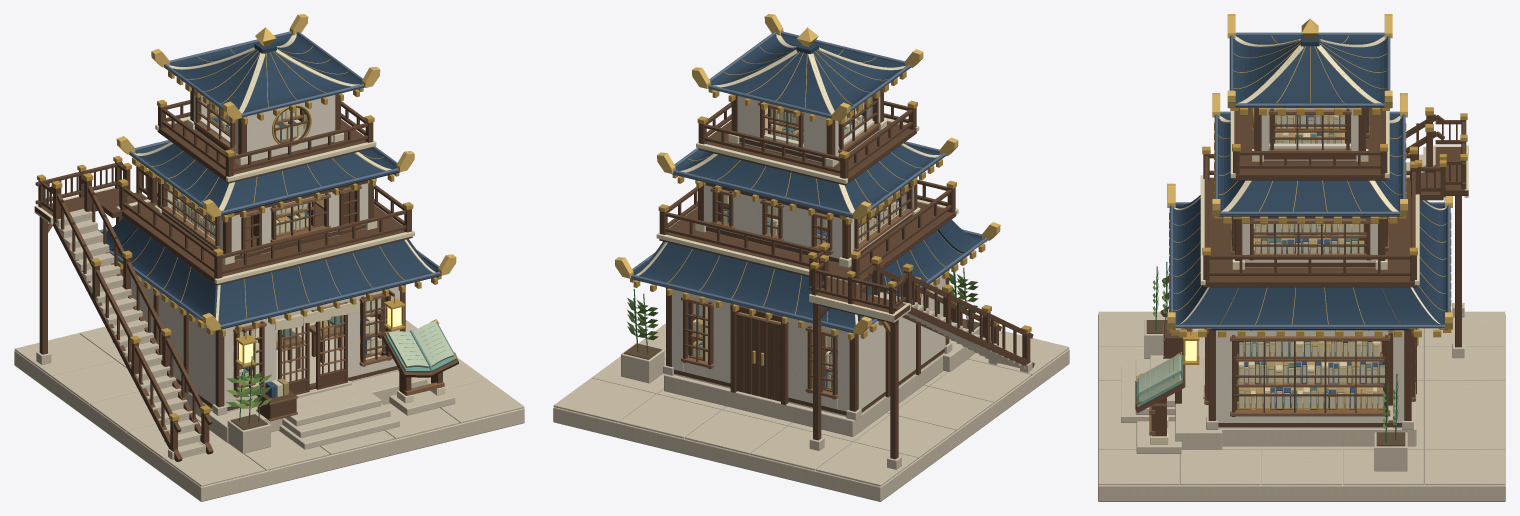
The model's file is library.glb.
3 renders of one model, left to right at view 1: azimuth 30°, elevation 25°; view 2: azimuth 150°, elevation 25°; view 3: azimuth 270°, elevation 25°, orthographic. The views are drawn at different scales.
Visible parts, largest first — view 1: RFbatch_0.034, RFbatch_31.034, RFbatch_52.034, RFbatch_3.034, RFbatch_42.034, RFbatch_37.034, RFbatch_7.034, RFbatch_51.034, RFbatch_5.034, RFbatch_8.034, RFbatch_30.034, RFbatch_26.034 (+28 smaller); view 2: RFbatch_0.034, RFbatch_31.034, RFbatch_7.034, RFbatch_52.034, RFbatch_42.034, RFbatch_3.034, RFbatch_37.034, RFbatch_26.034, RFbatch_8.034, RFbatch_5.034, RFbatch_19.034, RFbatch_1.034 (+20 smaller); view 3: RFbatch_0.034, RFbatch_31.034, RFbatch_42.034, RFbatch_3.034, RFbatch_37.034, RFbatch_8.034, RFbatch_5.034, RFbatch_14.034, RFbatch_26.034, RFbatch_52.034, RFbatch_7.034, RFbatch_9.034 (+38 smaller).
Part boxes in pixels (x1,y1,x2,y2): RFbatch_0.034: (14, 320, 524, 501); RFbatch_31.034: (102, 217, 441, 330); RFbatch_52.034: (34, 162, 213, 461); RFbatch_3.034: (119, 176, 412, 285); RFbatch_42.034: (164, 34, 363, 117); RFbatch_37.034: (129, 143, 399, 216); RFbatch_7.034: (131, 276, 399, 412); RFbatch_51.034: (36, 209, 211, 459); RFbatch_5.034: (157, 100, 373, 183); RFbatch_8.034: (162, 94, 390, 397); RFbatch_30.034: (278, 380, 399, 449); RFbatch_26.034: (153, 88, 405, 410); RFbatch_0.034: (553, 323, 1069, 501); RFbatch_31.034: (630, 219, 984, 334); RFbatch_7.034: (672, 275, 945, 416); RFbatch_52.034: (808, 250, 1034, 459); RFbatch_42.034: (708, 34, 910, 118); RFbatch_3.034: (659, 179, 956, 280); RFbatch_37.034: (672, 145, 945, 219); RFbatch_26.034: (666, 89, 949, 415); RFbatch_8.034: (683, 95, 912, 399); RFbatch_5.034: (698, 101, 916, 185); RFbatch_19.034: (730, 303, 788, 405); RFbatch_1.034: (664, 355, 943, 436); RFbatch_0.034: (1098, 311, 1505, 501); RFbatch_31.034: (1173, 195, 1447, 330); RFbatch_42.034: (1233, 35, 1386, 107); RFbatch_3.034: (1203, 154, 1417, 287); RFbatch_37.034: (1218, 114, 1401, 216); RFbatch_8.034: (1205, 108, 1415, 416); RFbatch_5.034: (1233, 108, 1387, 180); RFbatch_14.034: (1239, 341, 1384, 409); RFbatch_26.034: (1208, 108, 1411, 427); RFbatch_52.034: (1160, 114, 1468, 347); RFbatch_7.034: (1216, 330, 1404, 428); RFbatch_9.034: (1204, 110, 1415, 416).
Bounding box in the file's own units: 10 × 10.76 × 10.
Materials: 24 (8 with a texture image).
